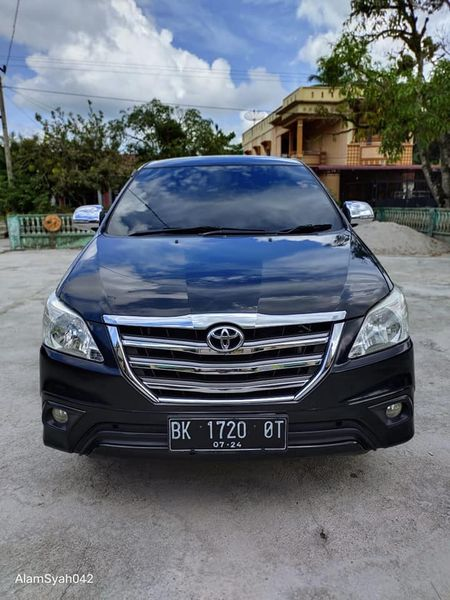plate: (162, 408, 293, 456)
